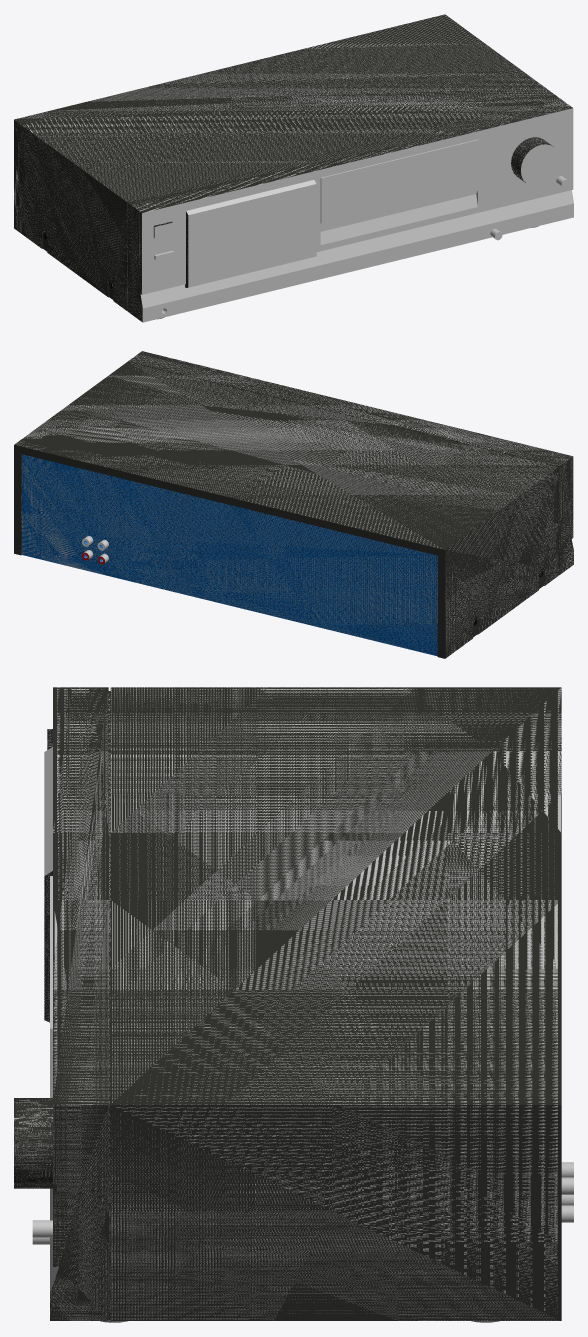
File: tape.dae
3 views of the same model, one above another, from view 1: azimuth 30°, elevation 25°; view 2: azimuth 150°, elevation 25°; view 3: azimuth 270°, elevation 25° (orthographic). The views are drawn at different scales.
Visible parts, largest first — view 1: SketchUp (×6); view 2: SketchUp (×3); view 3: SketchUp (×4).
Part boxes in pixels (left/top/right/bottom): SketchUp (×6): left=14, top=14, right=573, bottom=322; SketchUp (×3): left=14, top=351, right=573, bottom=658; SketchUp (×4): left=14, top=687, right=561, bottom=1320.
Bounding box in the file's own units: 17.81 × 10.09 × 4.65.
